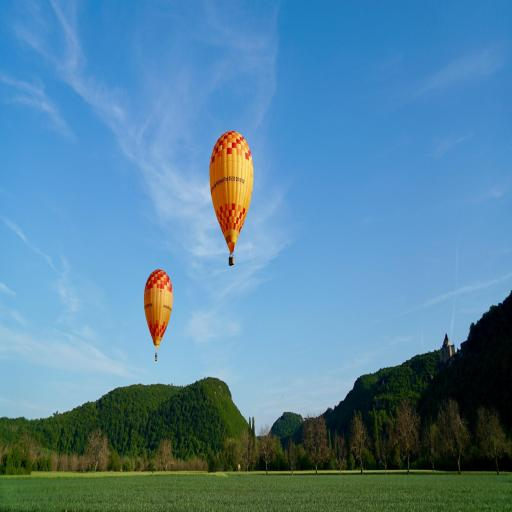hot air ballon: (208, 125, 256, 270), (143, 264, 175, 367)
